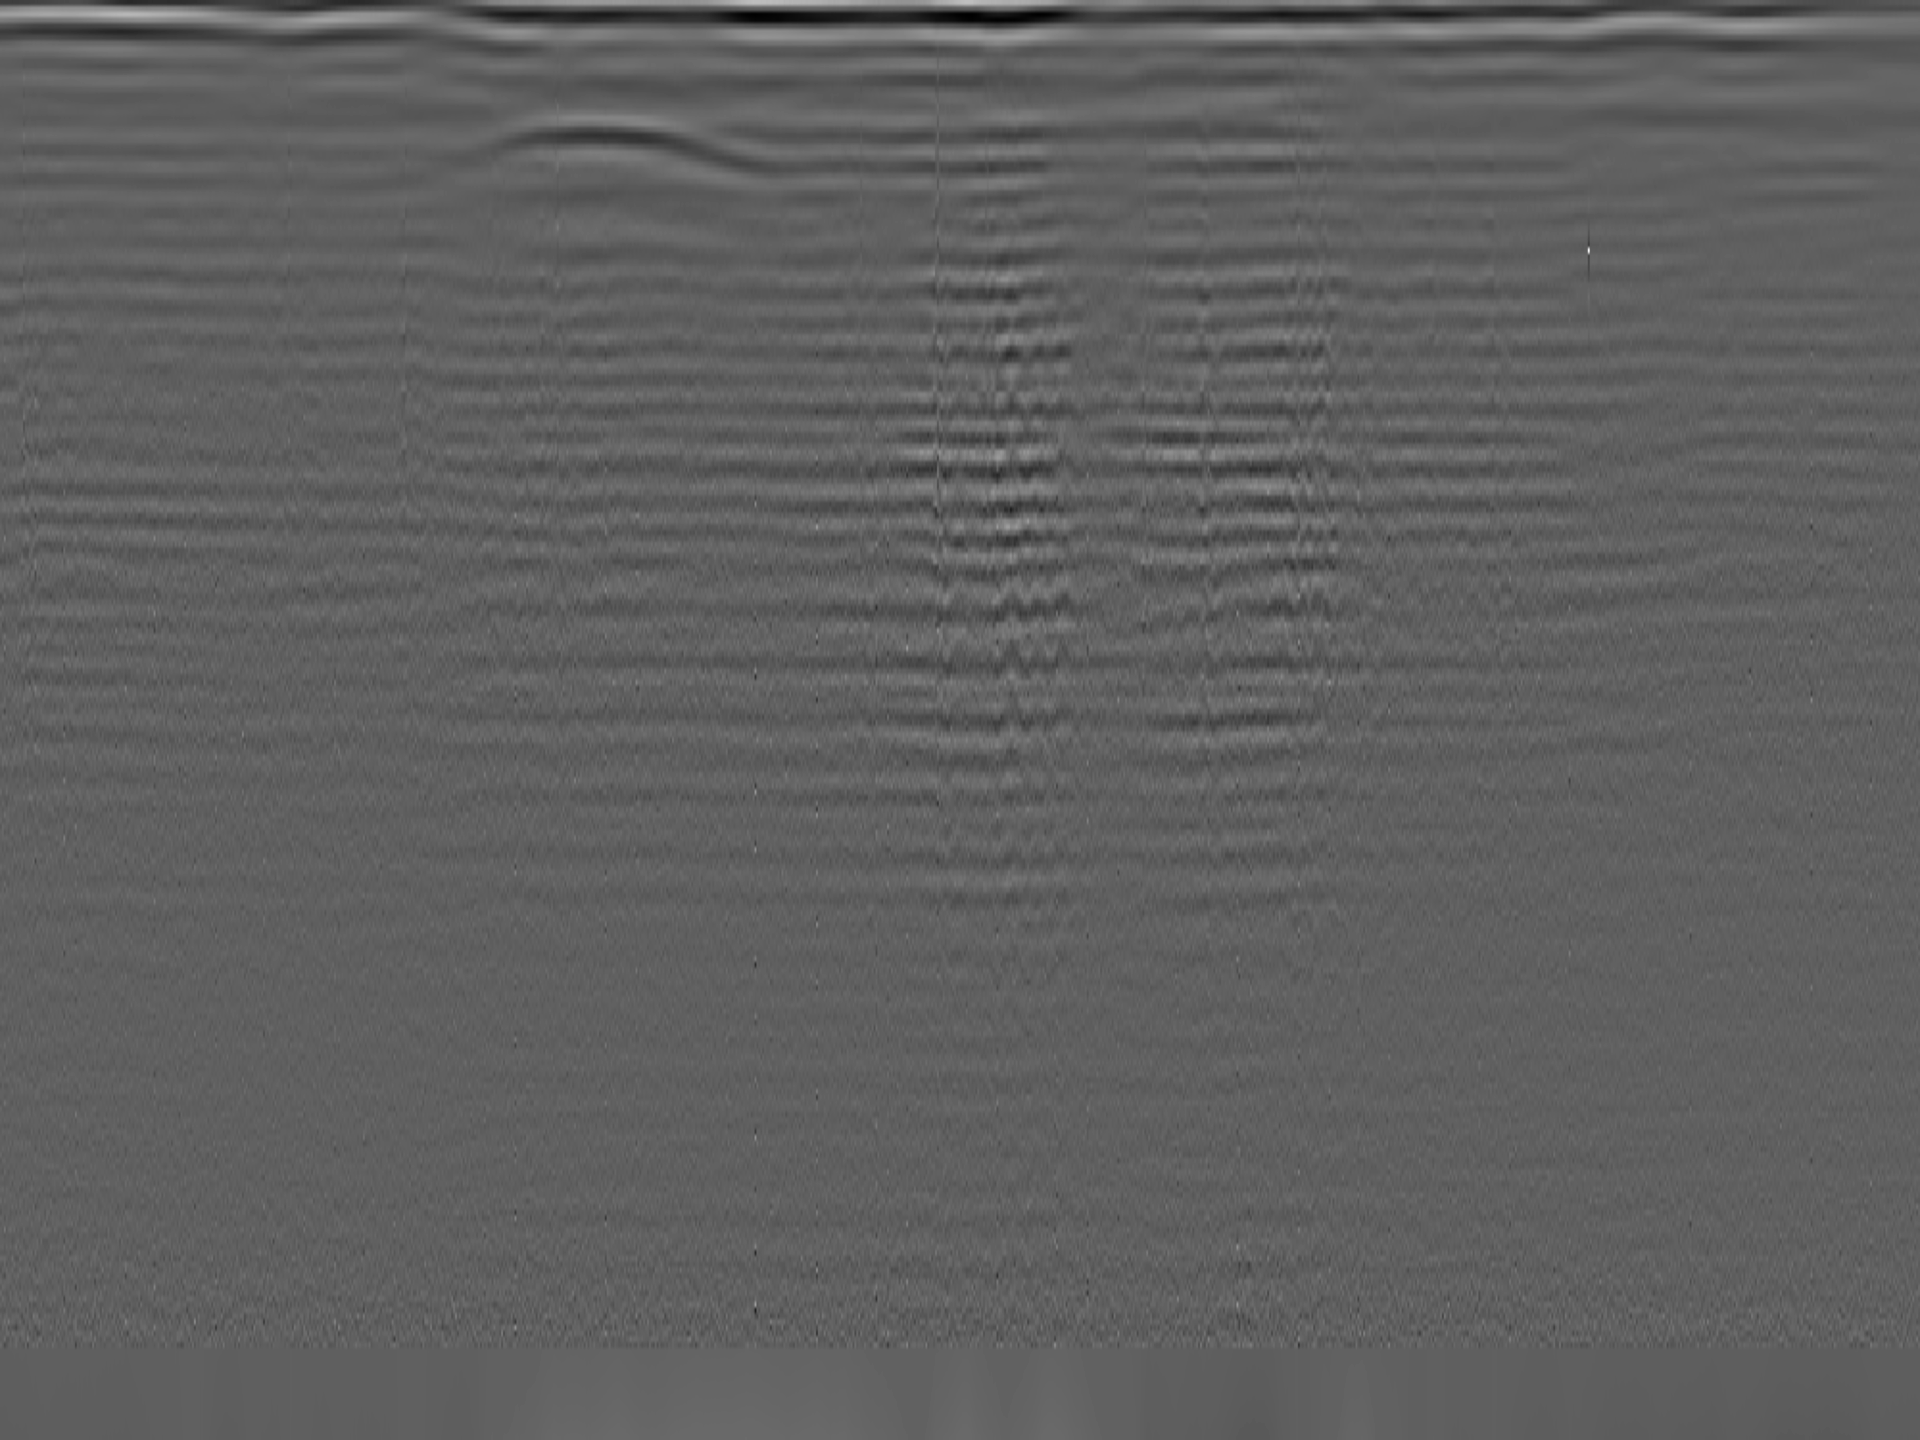Tunnel: (416, 109, 809, 178)
